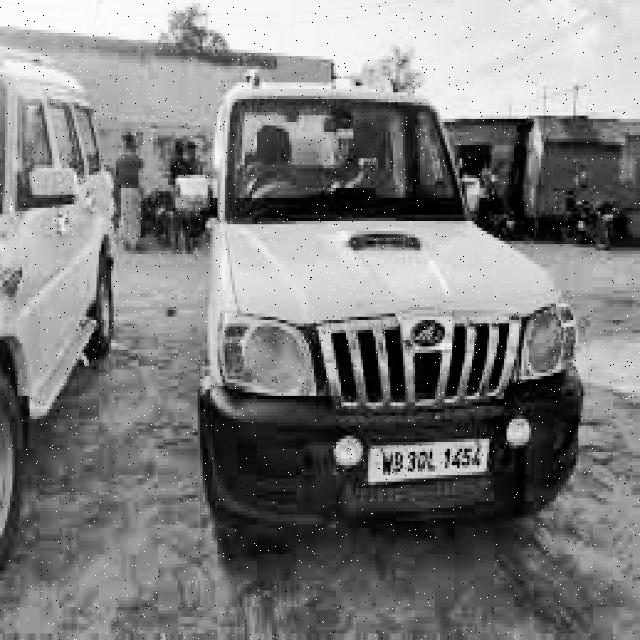Car: (189, 66, 597, 550)
